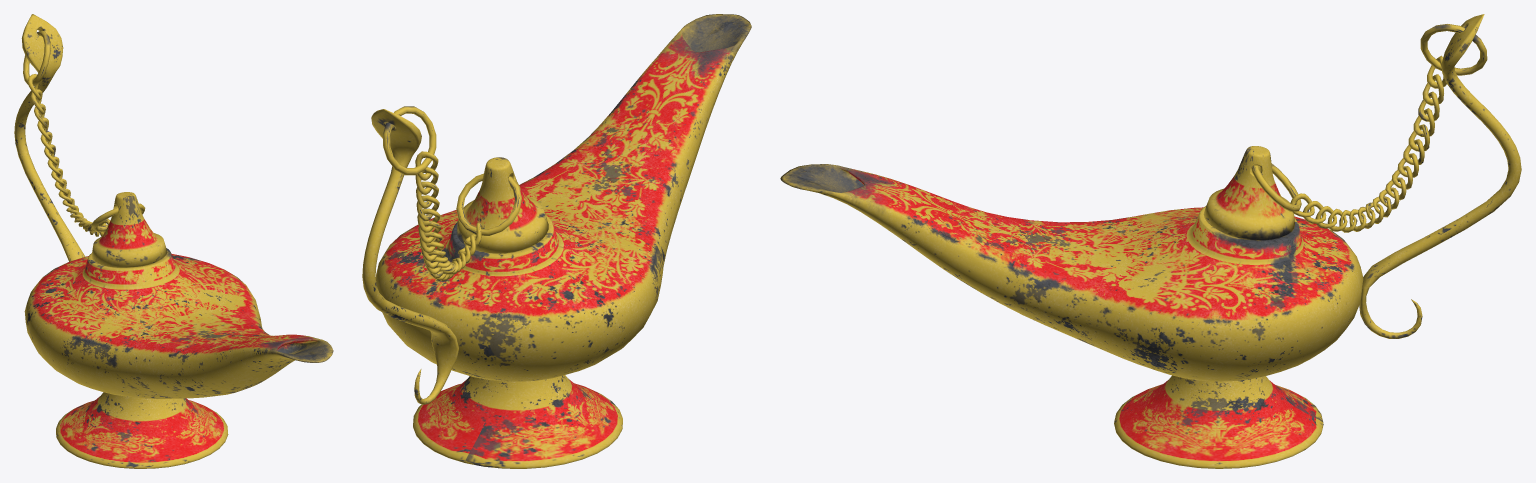
3 views of the same model, side by side, from view 1: azimuth 30°, elevation 25°; view 2: azimuth 150°, elevation 25°; view 3: azimuth 270°, elevation 25° (orthographic). The views are drawn at different scales.
Parts seen in each view (by area): view 1: Lamp, Lamp_chain; view 2: Lamp, Lamp_chain; view 3: Lamp, Lamp_chain.
Boxes of the visible parts, x1,y1,x2,y2 form: Lamp: [14, 14, 333, 468]; Lamp_chain: [23, 31, 145, 236]; Lamp: [362, 14, 751, 468]; Lamp_chain: [383, 106, 521, 280]; Lamp: [780, 14, 1521, 468]; Lamp_chain: [1251, 24, 1487, 232].
Bounding box in the file's own units: 45.28 × 72.67 × 119.
1 material, 1 textured.
